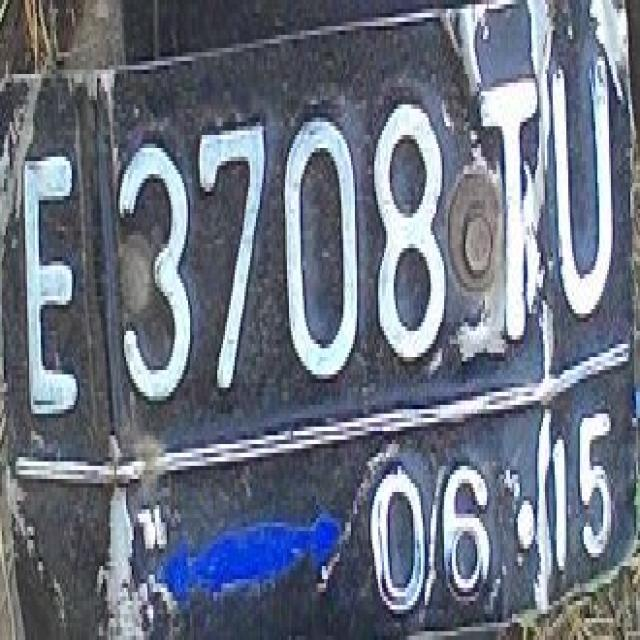plate: (0, 4, 638, 610)
